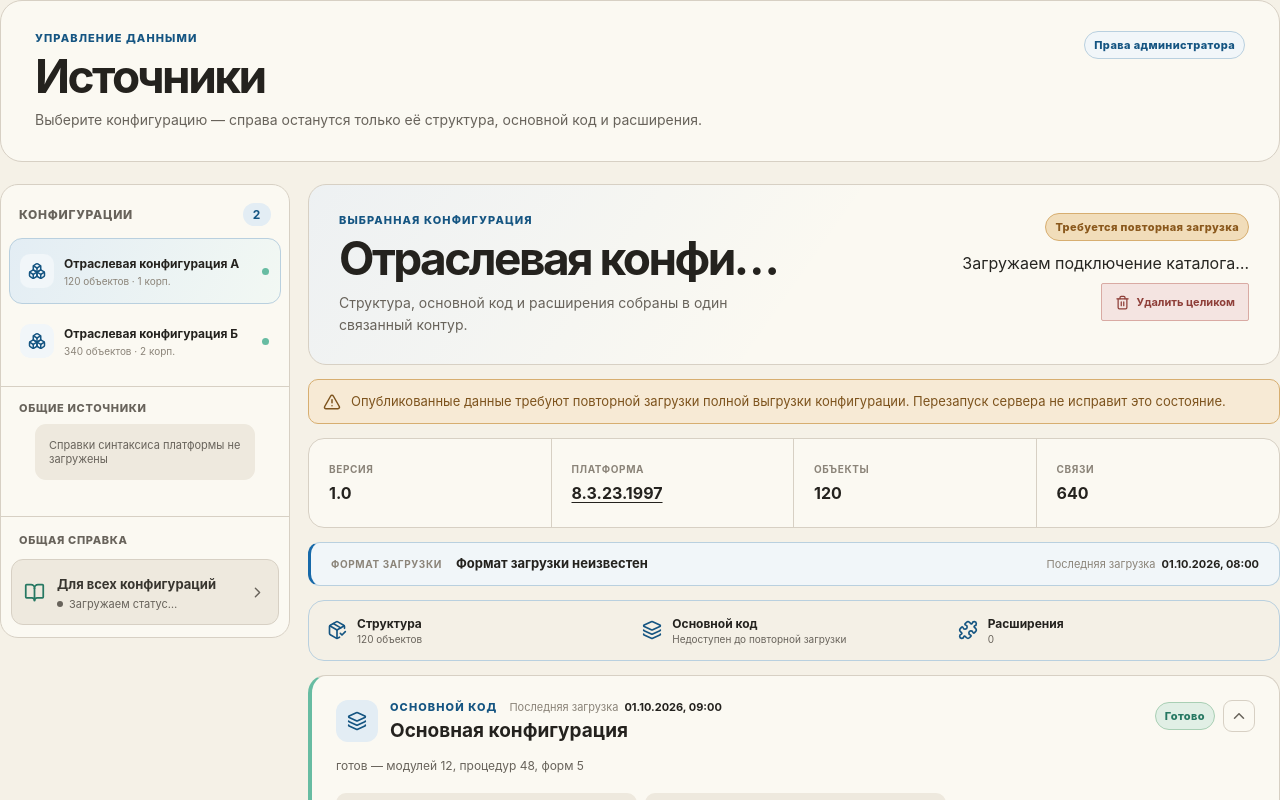
it: показывает независимые даты принятых загрузок структуры и корпусов в свёрнутых карточках
Expected: the heading "Отраслевая конфигурация А" is shown, [339,236,782,282]
Step 1. Click the button "Отраслевая конфигурация Б 340 объектов · 2 корп." → (145, 342), box [9,308,281,374]
(page scrolled)
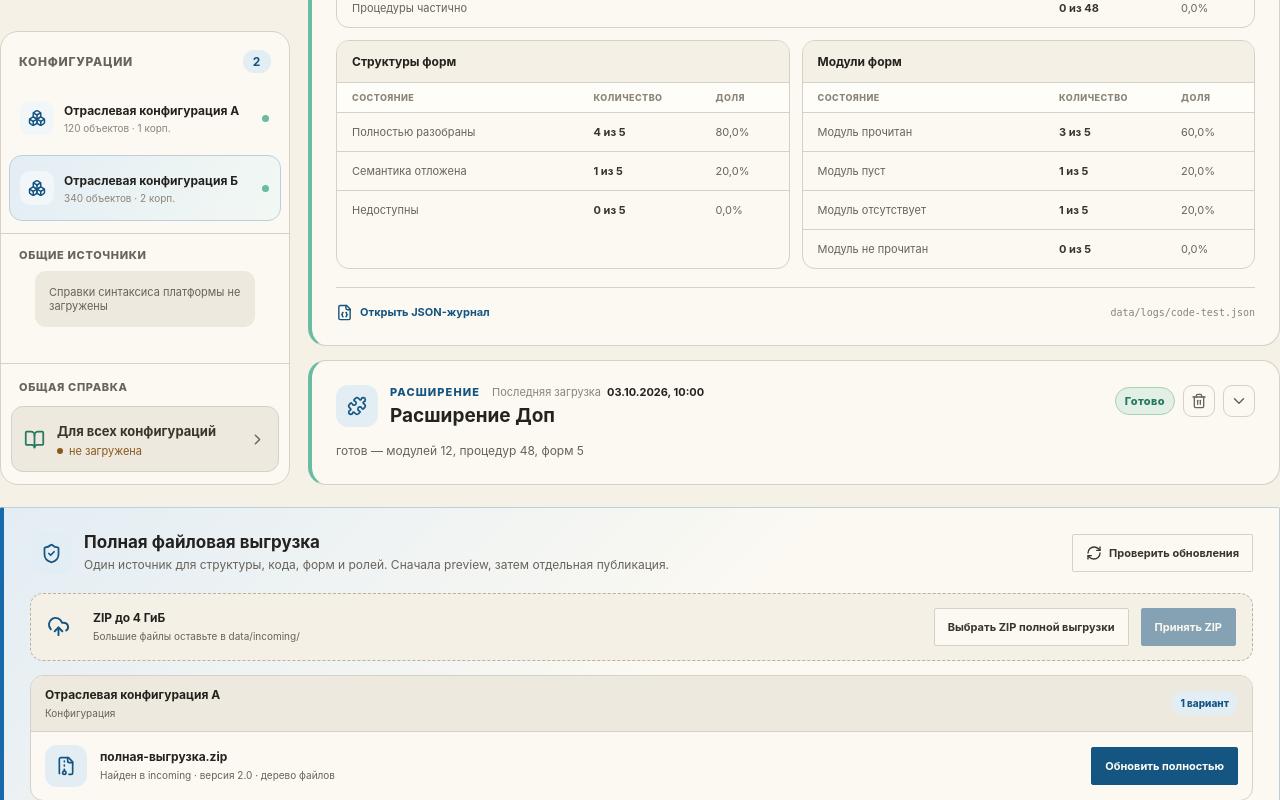
Expected: the button named "Показать подробности Расширение Доп" is collapsed, [1223,384,1255,416]
